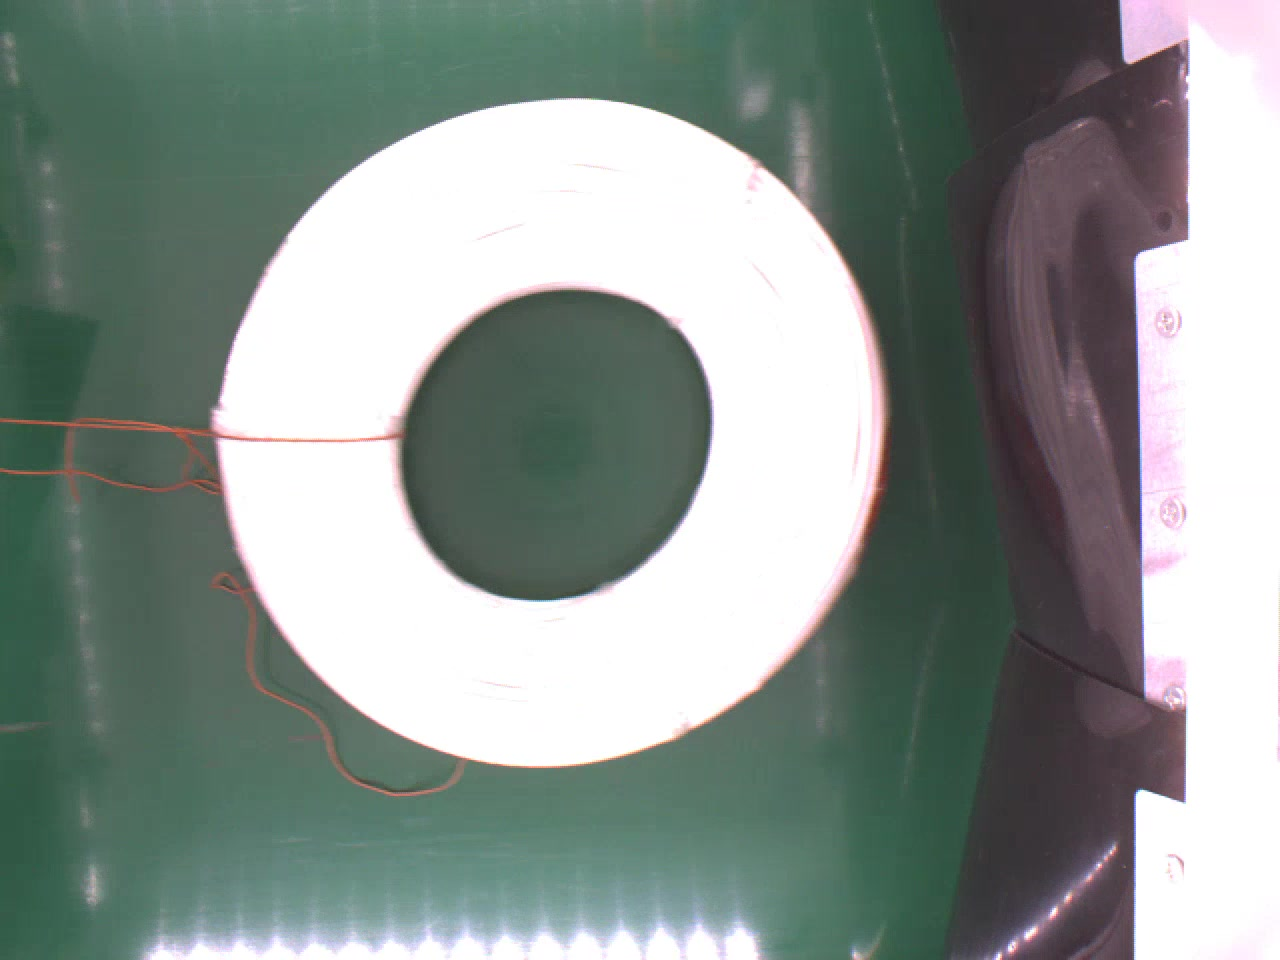white: (215, 97, 884, 768)
